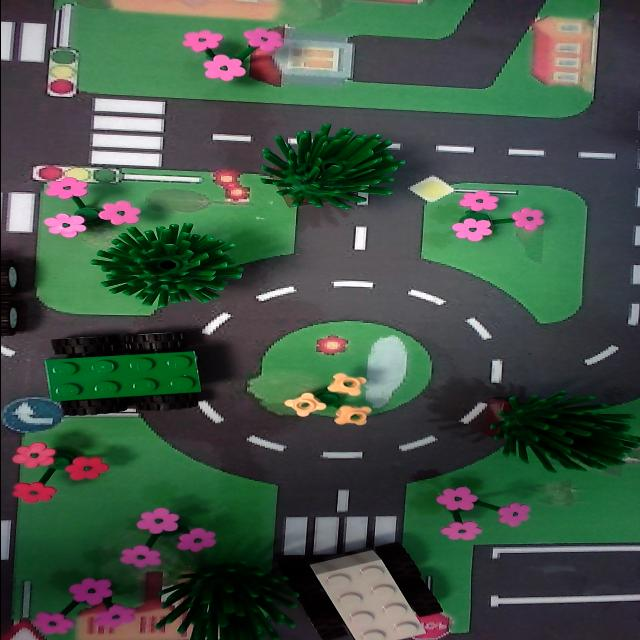Car: (34, 327, 220, 423), (291, 540, 453, 640)
Flower: (24, 572, 140, 637), (426, 478, 536, 546), (7, 440, 111, 510), (175, 23, 288, 85), (277, 368, 383, 432), (38, 178, 151, 238), (113, 505, 214, 571), (444, 189, 544, 247)
Tree: (478, 383, 640, 479), (252, 123, 404, 215), (89, 224, 245, 308), (160, 560, 290, 640)
